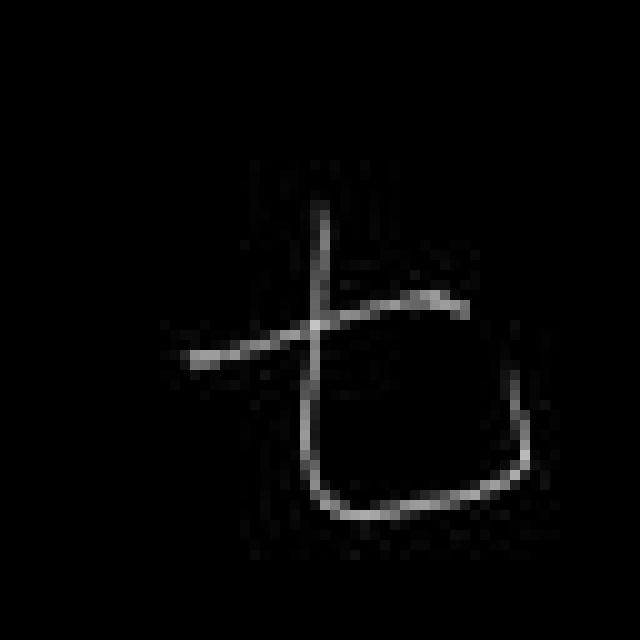7 -seven-: (182, 202, 545, 534)
